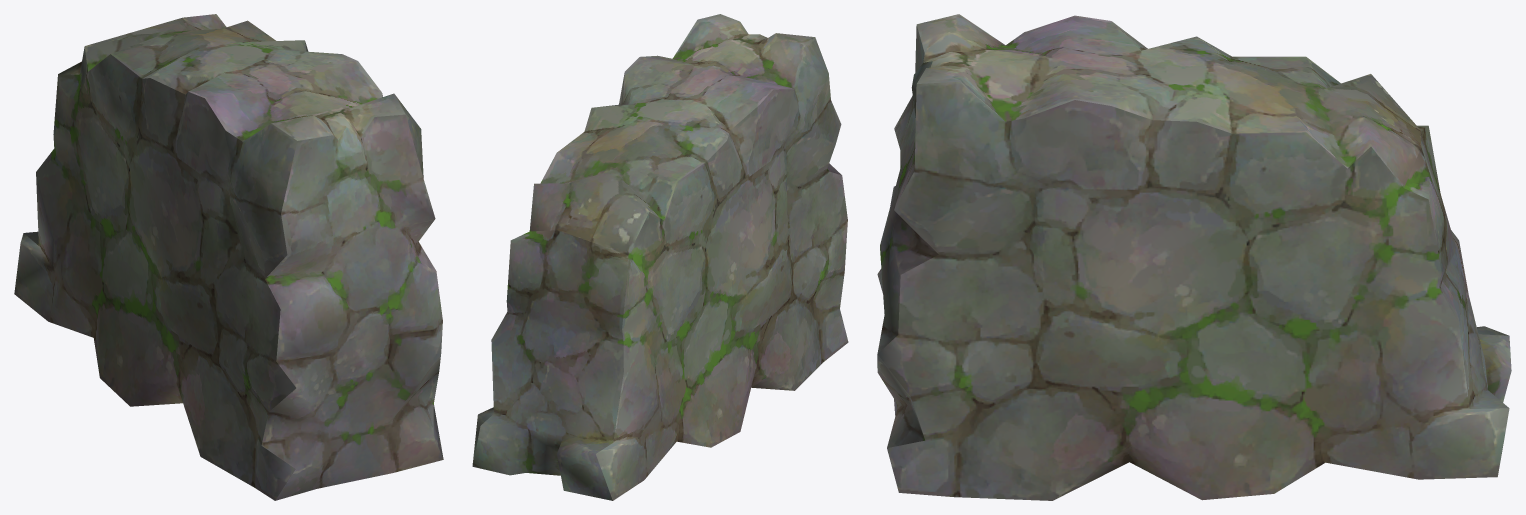
File: Area_Common_Build_RockWall_A_03.fbx
The picture shows the model from 3 angles, left to right: view 1: azimuth 30°, elevation 25°; view 2: azimuth 150°, elevation 25°; view 3: azimuth 270°, elevation 25°; orthographic projection. The views are drawn at different scales.
Visible parts, largest first — view 1: Area_Common_Build_RockWall_A_03_Lod0; view 2: Area_Common_Build_RockWall_A_03_Lod0; view 3: Area_Common_Build_RockWall_A_03_Lod0.
Part boxes in pixels (x1=…): Area_Common_Build_RockWall_A_03_Lod0: x1=14, y1=14, x2=443, y2=500; Area_Common_Build_RockWall_A_03_Lod0: x1=472, y1=14, x2=848, y2=500; Area_Common_Build_RockWall_A_03_Lod0: x1=877, y1=14, x2=1511, y2=500.
Size of the model in its own units: 1.4 by 2.54 by 3.58.
1 material, 1 textured.
